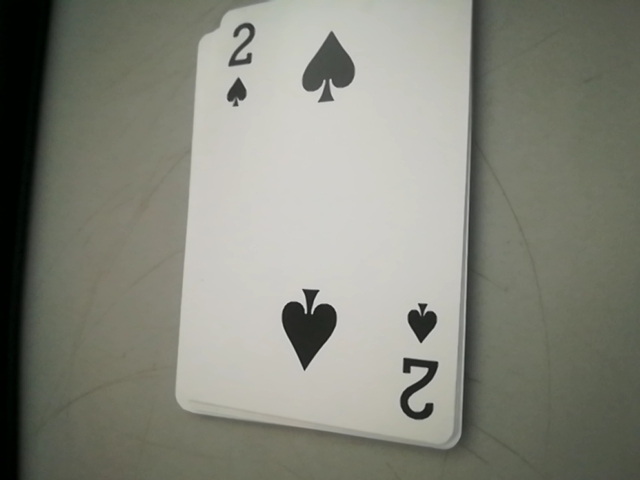ht 2: (394, 302, 450, 428)
